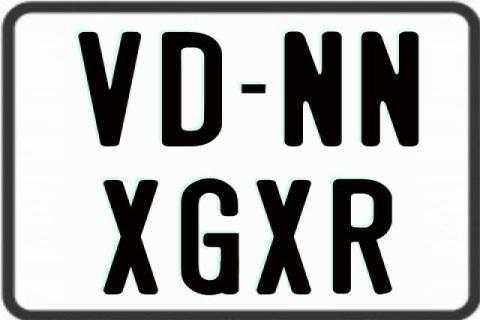D: (159, 30, 223, 148)
G: (178, 178, 236, 298)
N: (281, 31, 345, 149), (361, 29, 420, 145)
R: (331, 177, 396, 293)
V: (78, 32, 145, 151)
X: (102, 178, 163, 296), (256, 178, 311, 294)
